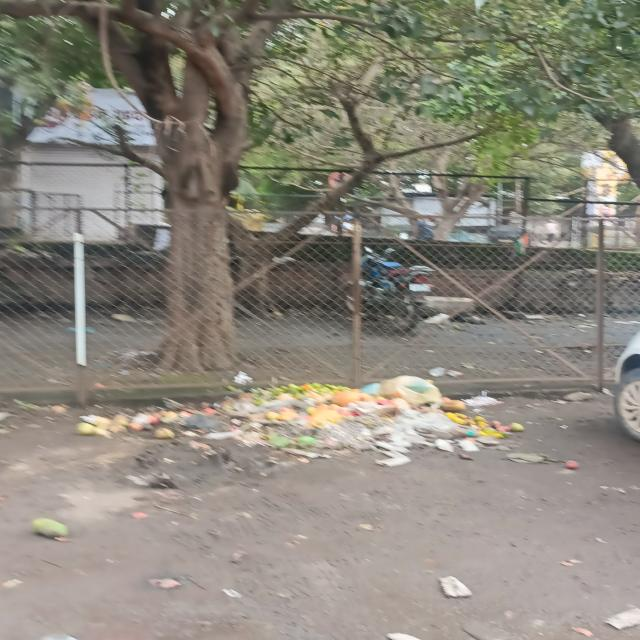garbage: (101, 379, 492, 463)
